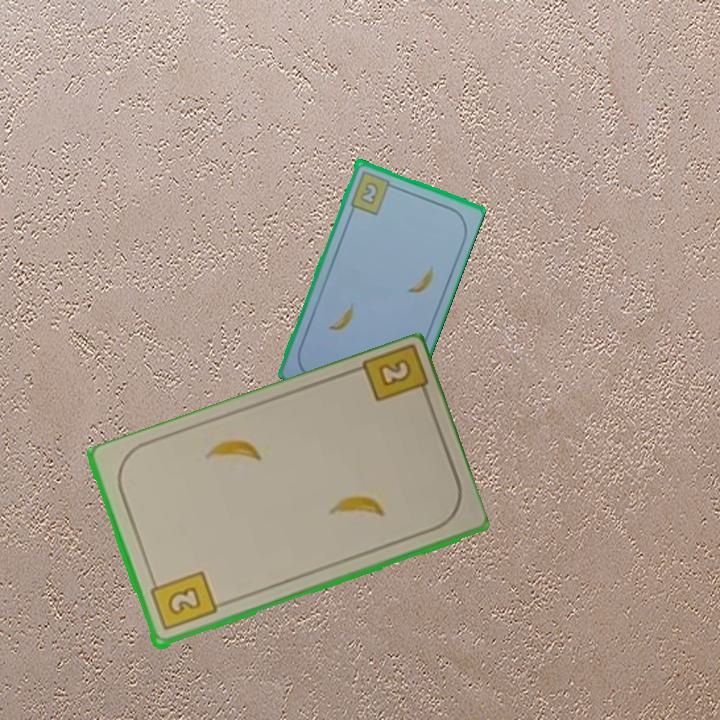2b: (356, 344, 433, 407), (146, 568, 219, 634), (347, 167, 398, 217)
